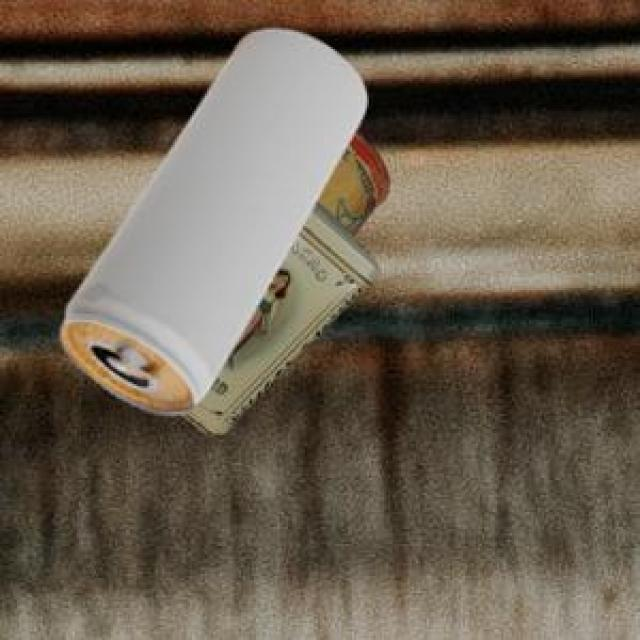Can: (57, 27, 364, 411), (178, 197, 377, 436), (315, 125, 387, 234)
